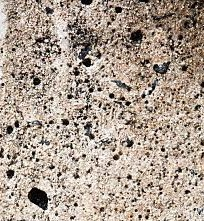Spalling: (1, 1, 204, 221)
